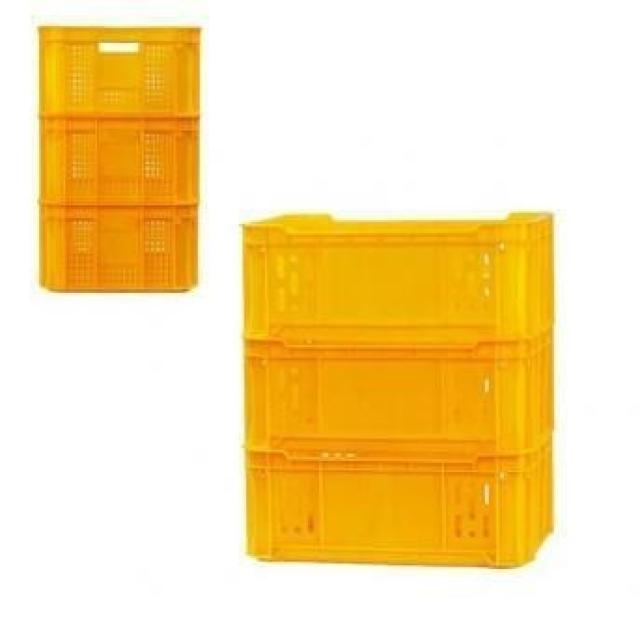basket: (247, 215, 554, 568), (39, 28, 198, 118), (41, 118, 197, 204), (43, 206, 196, 292)
